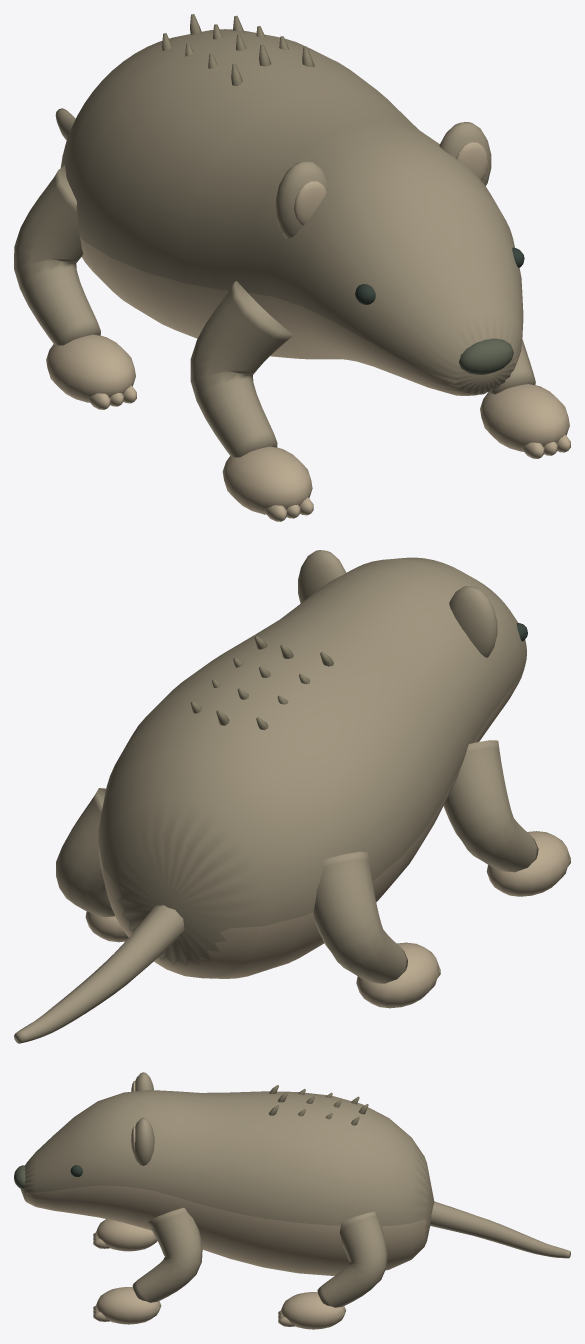
Rendered from spinolestes.glb.
3 renders of one model, top to bottom at view 1: azimuth 30°, elevation 25°; view 2: azimuth 150°, elevation 25°; view 3: azimuth 270°, elevation 25°, orthographic. The views are drawn at different scales.
Parts seen in each view (by area): view 1: compact-small-mammal-continuous-head-and-pelage-body, short-connected-limbs-and-rounded-grounded-paws, small-ears-eyes-and-blunt-muzzle, localized-short-dorsal-protospine-patch; view 2: compact-small-mammal-continuous-head-and-pelage-body, short-connected-limbs-and-rounded-grounded-paws, short-tapering-tail, small-ears-eyes-and-blunt-muzzle, localized-short-dorsal-protospine-patch; view 3: compact-small-mammal-continuous-head-and-pelage-body, short-connected-limbs-and-rounded-grounded-paws, short-tapering-tail, small-ears-eyes-and-blunt-muzzle, localized-short-dorsal-protospine-patch.
Boxes of the visible parts, x1=… form: compact-small-mammal-continuous-head-and-pelage-body: x1=60, y1=29, x2=523, y2=395; short-connected-limbs-and-rounded-grounded-paws: x1=14, y1=165, x2=570, y2=521; small-ears-eyes-and-blunt-muzzle: x1=275, y1=122, x2=524, y2=374; localized-short-dorsal-protospine-patch: x1=162, y1=14, x2=314, y2=85; compact-small-mammal-continuous-head-and-pelage-body: x1=98, y1=557, x2=526, y2=978; short-connected-limbs-and-rounded-grounded-paws: x1=56, y1=740, x2=570, y2=1008; short-tapering-tail: x1=14, y1=905, x2=184, y2=1043; small-ears-eyes-and-blunt-muzzle: x1=298, y1=550, x2=527, y2=657; localized-short-dorsal-protospine-patch: x1=190, y1=636, x2=333, y2=730; compact-small-mammal-continuous-head-and-pelage-body: x1=20, y1=1090, x2=434, y2=1275; short-connected-limbs-and-rounded-grounded-paws: x1=93, y1=1207, x2=387, y2=1329; short-tapering-tail: x1=430, y1=1201, x2=570, y2=1258; small-ears-eyes-and-blunt-muzzle: x1=14, y1=1072, x2=154, y2=1188; localized-short-dorsal-protospine-patch: x1=269, y1=1085, x2=368, y2=1125.
Bounding box in the file's own units: 0.082 × 0.0716 × 0.1868.
